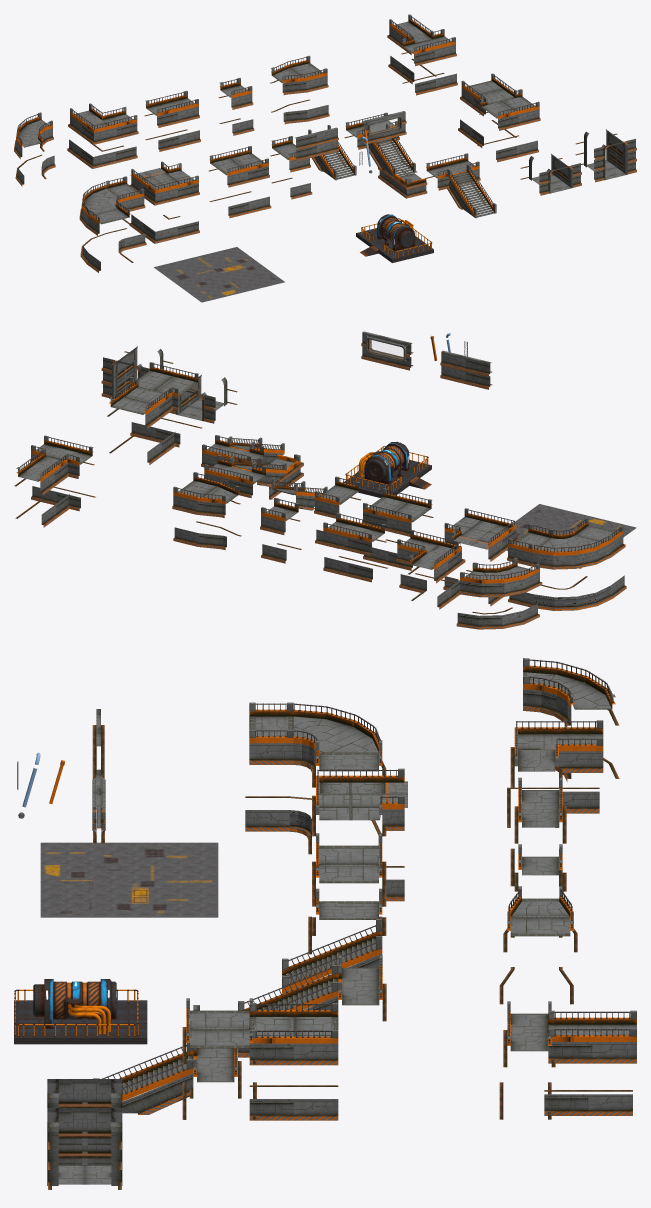
The model's file is top_down_scifi_industrial_platforms.glb.
3 renders of one model, top to bottom at view 1: azimuth 30°, elevation 25°; view 2: azimuth 150°, elevation 25°; view 3: azimuth 270°, elevation 25°, orthographic. The views are drawn at different scales.
Parts seen in each view (by area): view 1: Plane_9, Stairway_large_22, Platform_T_Junction (1)_44, Stairway_Short_20, W_Platform_Bend_40, Generator_5, Platform_T_Junction_46, W_Platform_Corner_36, Platform_Corner_67, Tunnel_Tall Variant_1, W_Platform_Long_34, Small_To_Large_Platform_52 (+16 smaller); view 2: W_Platform_Bend_40, Platform_T_Junction (1)_44, Generator_5, Stairway_large_22, Platform_T_Junction_46, Platform_Bend_69, W_Platform_Corner_36, Platform_Corner_67, Small_To_Large_Platform_52, W_Platform_Long_34, Plane_9, Platform_Long_60 (+16 smaller); view 3: Plane_9, Platform_T_Junction (1)_44, Generator_5, W_Platform_Bend_40, Platform_T_Junction_46, Tunnel_Tall Variant_1, Stairway_Short_20, W_Platform_Corner_36, Platform_Corner_67, Stairway_large_22, Platform_Bend_69, Stairway_Joiner_24 (+11 smaller).
Boxes of the visible parts, x1,y1,x2,y2 form: Plane_9: (154,247,284,302); Stairway_large_22: (344,112,427,198); Platform_T_Junction (1)_44: (460,73,540,130); Stairway_Short_20: (425,153,496,218); W_Platform_Bend_40: (79,176,145,235); Generator_5: (356,214,433,262); Platform_T_Junction_46: (387,14,456,66); W_Platform_Corner_36: (129,161,199,205); Platform_Corner_67: (68,103,138,144); Tunnel_Tall Variant_1: (575,129,636,182); W_Platform_Long_34: (208,146,269,187); Small_To_Large_Platform_52: (270,55,328,95); W_Platform_Bend_40: (507,517,625,569); Platform_T_Junction (1)_44: (107,362,200,428); Generator_5: (343,441,431,497); Stairway_large_22: (204,454,303,499); Platform_T_Junction_46: (14,435,94,494); Platform_Bend_69: (458,557,542,597); W_Platform_Corner_36: (444,508,519,561); Platform_Corner_67: (396,529,465,583); Small_To_Large_Platform_52: (172,472,240,517); W_Platform_Long_34: (361,488,433,536); Plane_9: (506,504,636,568); Platform_Long_60: (322,512,386,556); Plane_9: (40,842,218,917); Platform_T_Junction (1)_44: (182,998,338,1065); Generator_5: (14,979,147,1044); W_Platform_Bend_40: (249,702,386,787); Platform_T_Junction_46: (503,1001,636,1067); Tunnel_Tall Variant_1: (47,1108,122,1189); Stairway_Short_20: (93,1043,241,1114); W_Platform_Corner_36: (312,768,407,836); Platform_Corner_67: (510,720,603,787); Stairway_large_22: (193,955,386,1057); Platform_Bend_69: (523,658,619,727); Stairway_Joiner_24: (282,918,382,993).
Size of the model in its own units: 93.14 by 23.59 by 56.12.
5 materials, 3 textured.
